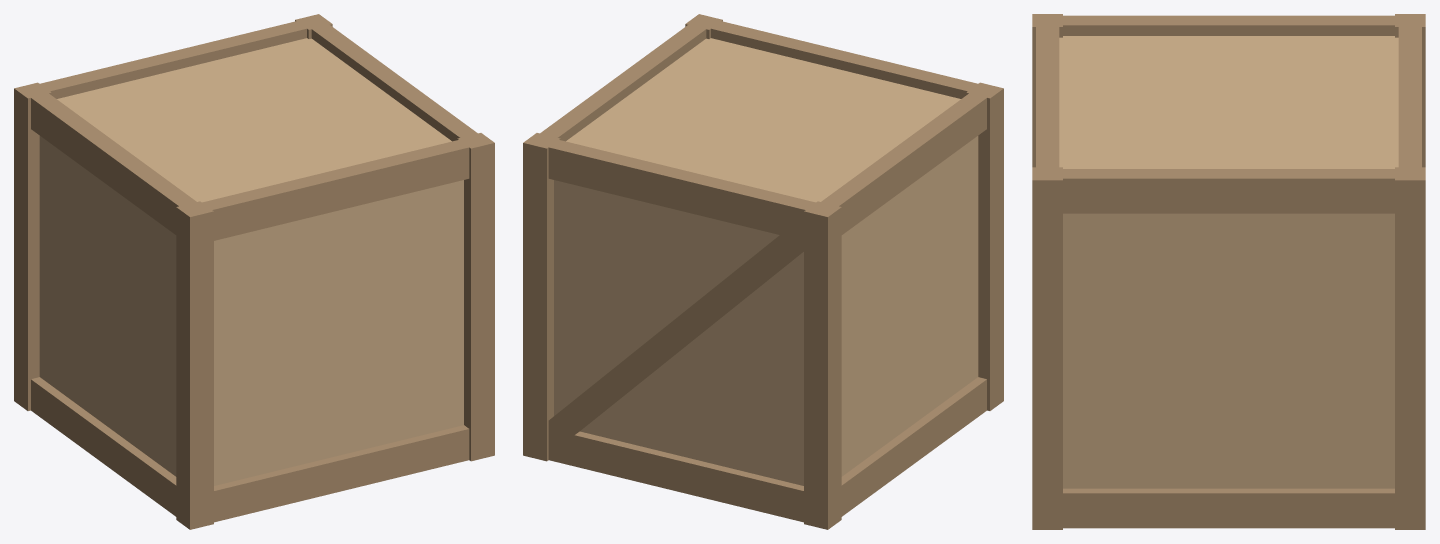
Rendered from WH_Crate.fbx.
3 renders of one model, left to right at view 1: azimuth 30°, elevation 25°; view 2: azimuth 150°, elevation 25°; view 3: azimuth 270°, elevation 25°, orthographic. The views are drawn at different scales.
Parts seen in each view (by area): view 1: WH_Crate; view 2: WH_Crate; view 3: WH_Crate.
Part boxes in pixels (bbox=[...]): WH_Crate: bbox=[14, 14, 494, 529]; WH_Crate: bbox=[523, 14, 1003, 529]; WH_Crate: bbox=[1032, 14, 1425, 529].
Size of the model in its own units: 1.02 by 1 by 1.02.
